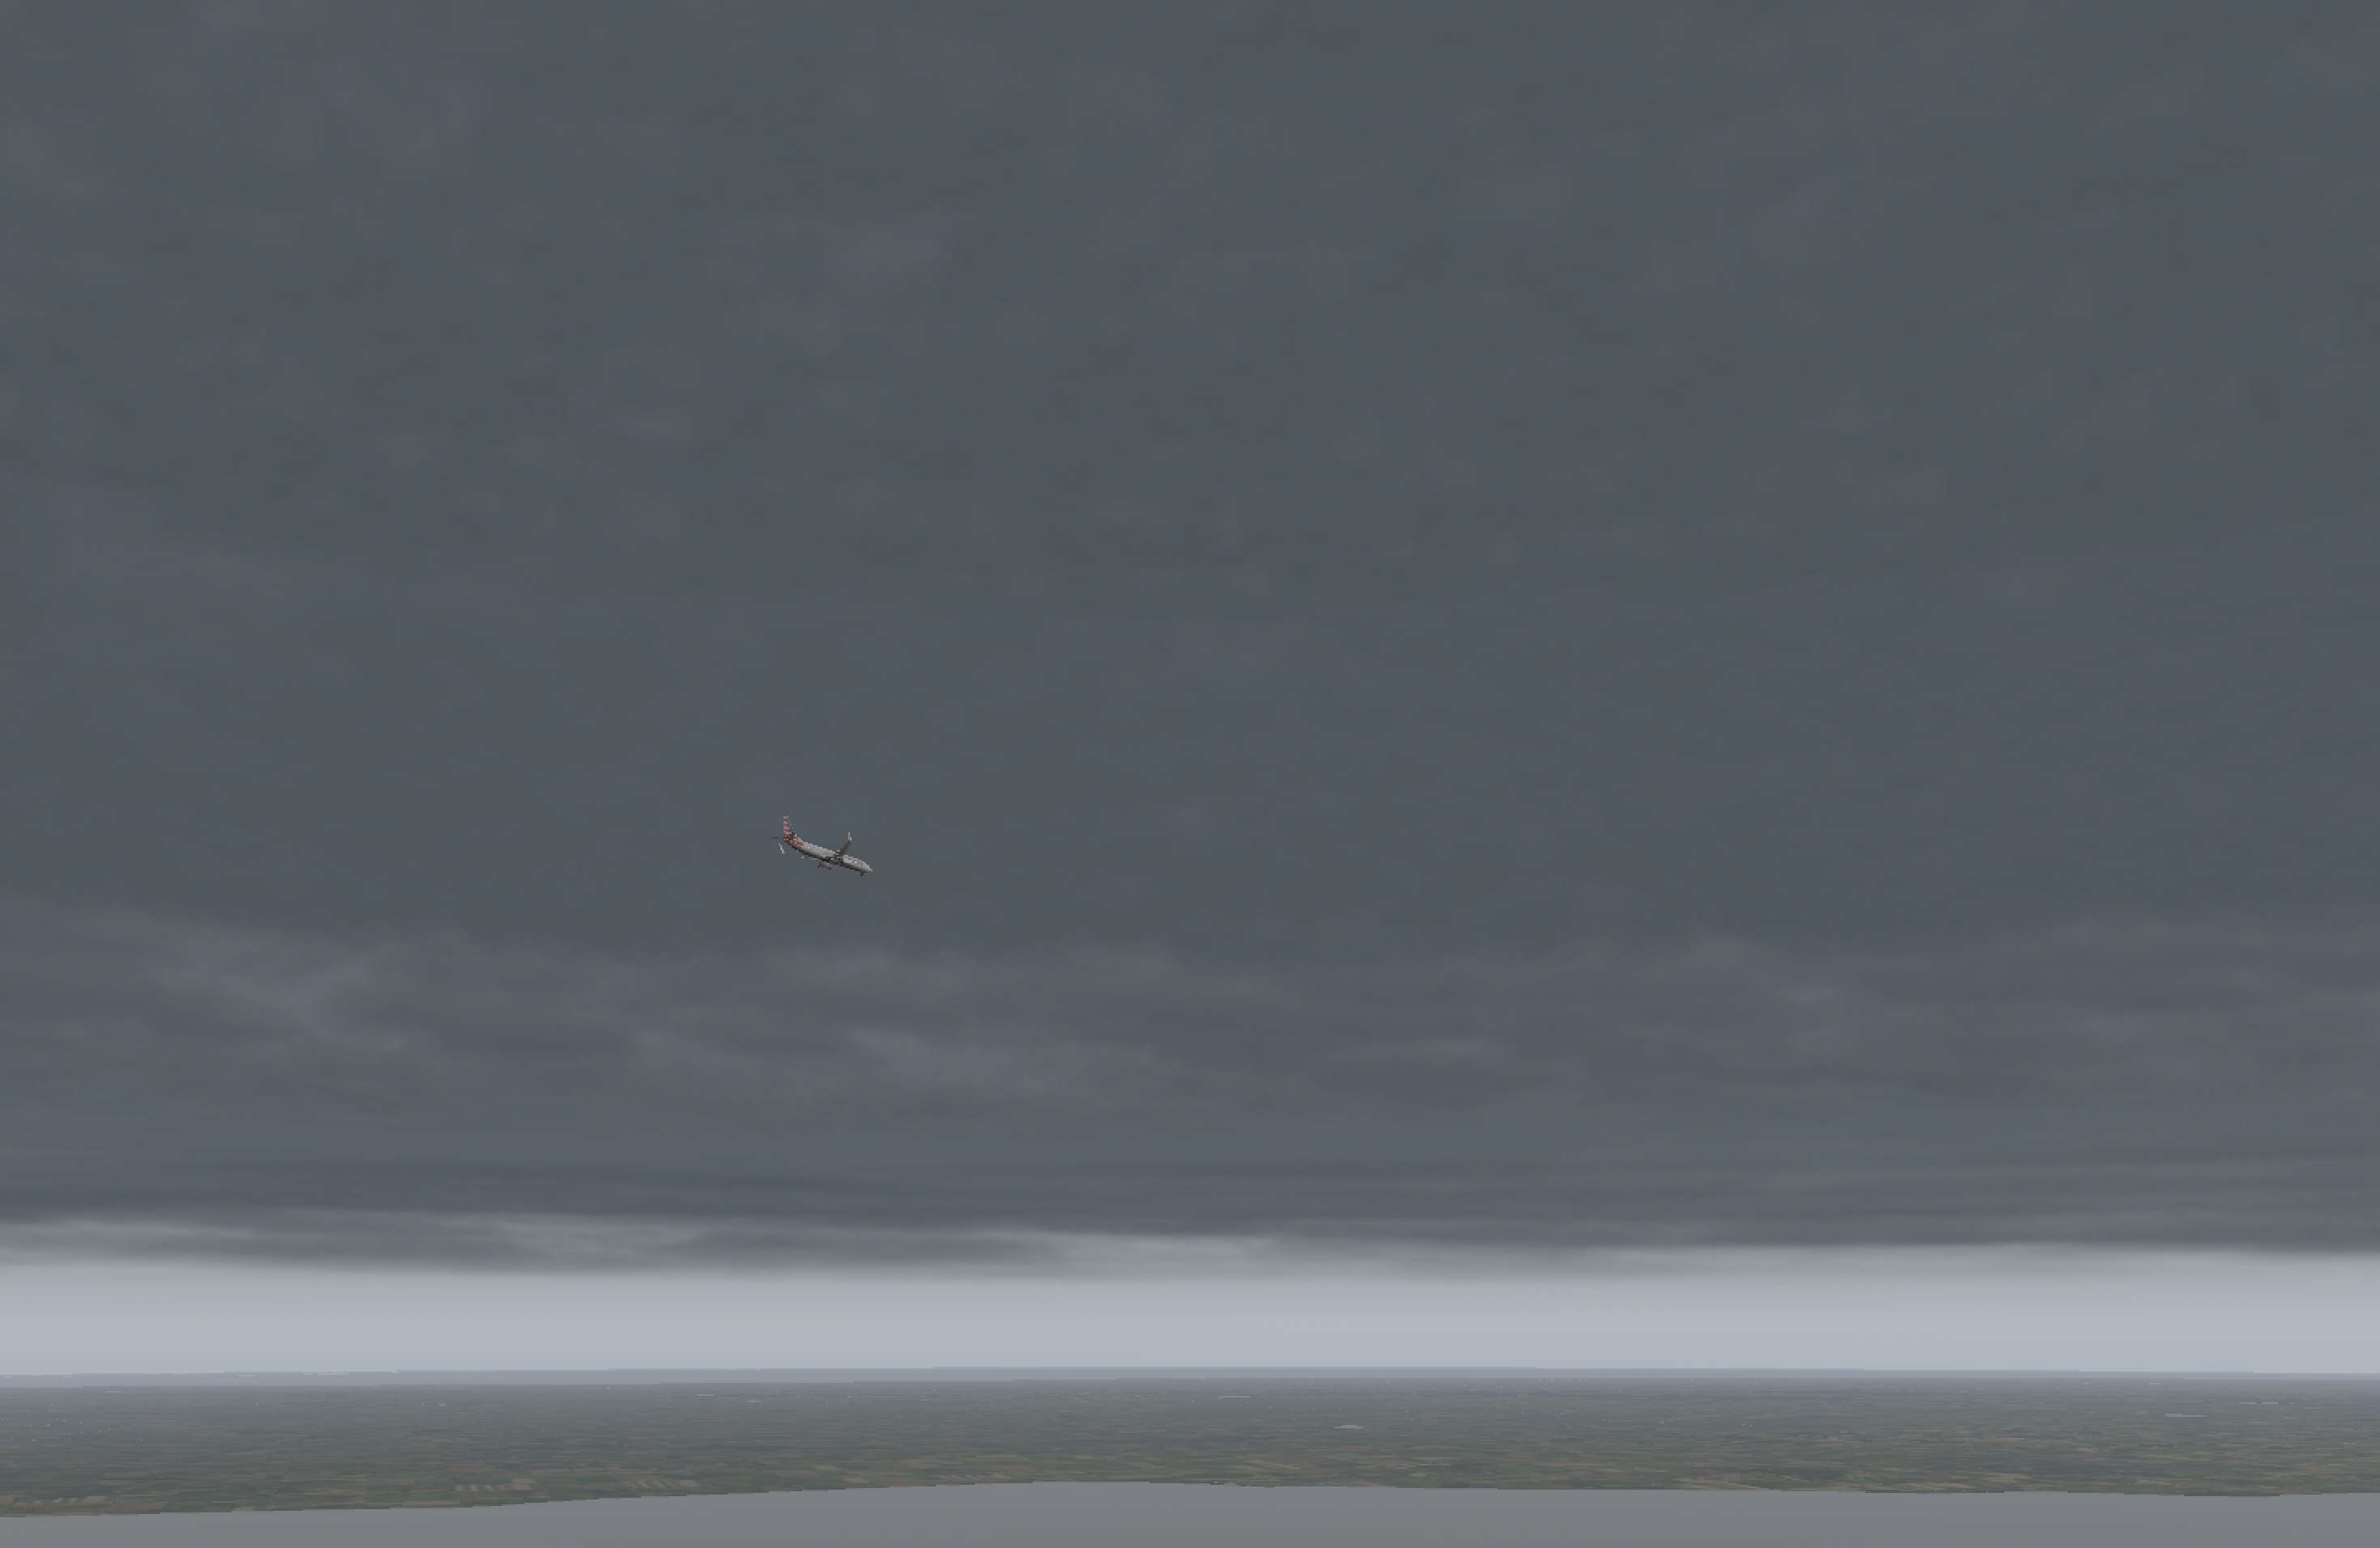aircraft: (770, 836, 888, 880)
